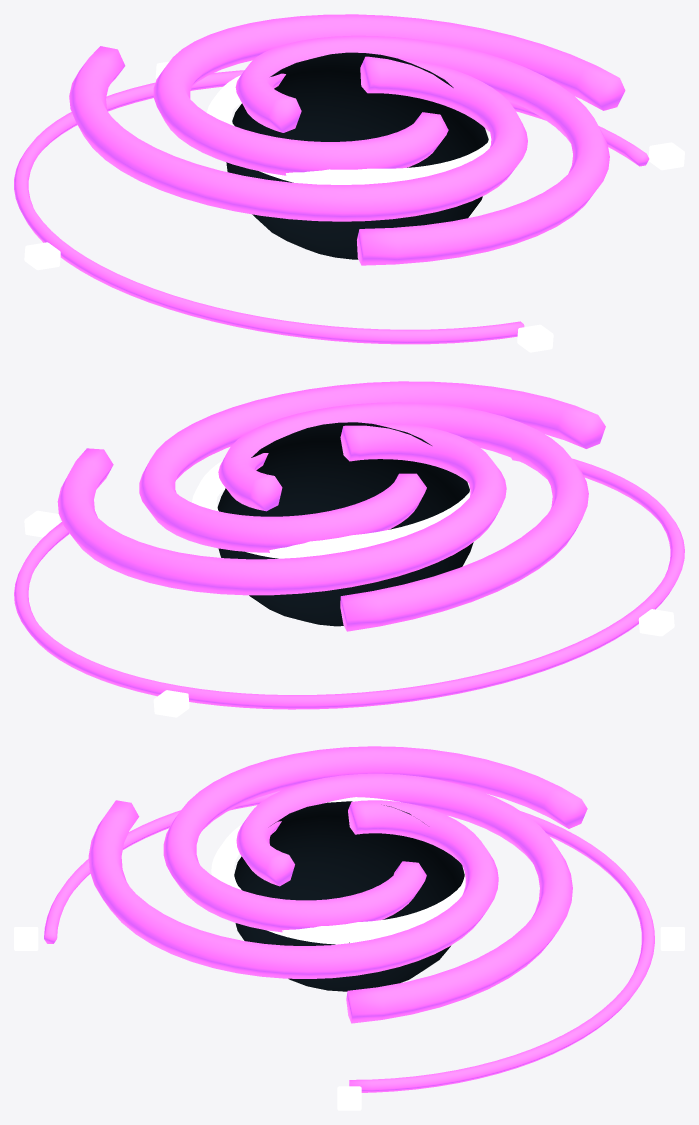
File: reverse-blast-pickup.glb
The picture shows the model from 3 angles, top to bottom: view 1: azimuth 30°, elevation 25°; view 2: azimuth 150°, elevation 25°; view 3: azimuth 270°, elevation 25°; orthographic projection. The views are drawn at different scales.
Parts seen in each view (by area): view 1: pickup-hover.002-PL-violet, singularity, pickup-hover.002-PL-white; view 2: pickup-hover.002-PL-violet, singularity, pickup-hover.002-PL-white; view 3: pickup-hover.002-PL-violet, singularity, pickup-hover.002-PL-white.
Part boxes in pixels (x1,y1,x2,y2): pickup-hover.002-PL-violet: (14,14,649,344); singularity: (226,52,488,259); pickup-hover.002-PL-white: (24,61,684,352); pickup-hover.002-PL-violet: (14,381,684,709); singularity: (217,422,473,626); pickup-hover.002-PL-white: (24,460,674,717); pickup-hover.002-PL-violet: (44,746,654,1092); singularity: (234,801,464,991); pickup-hover.002-PL-white: (14,797,684,1110).
Bounding box in the file's own units: 3.85 × 0.9968 × 3.86.
